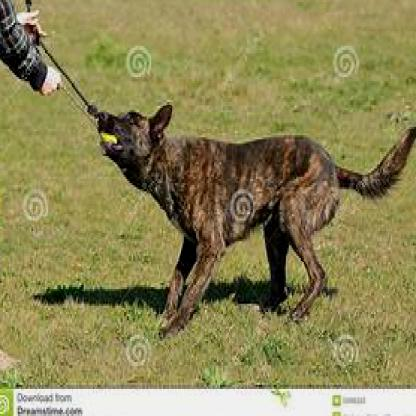dog: (98, 102, 414, 326)
